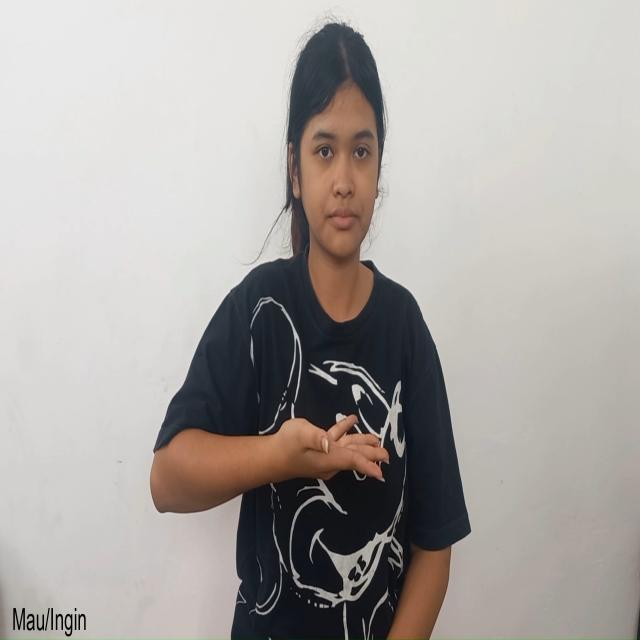Mau-Ingin -BISINDO-: (149, 391, 395, 529)
